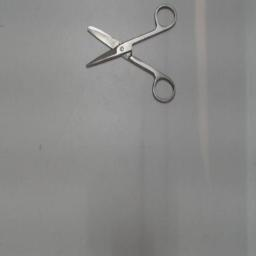Dressing Scissors: (79, 2, 181, 108)
